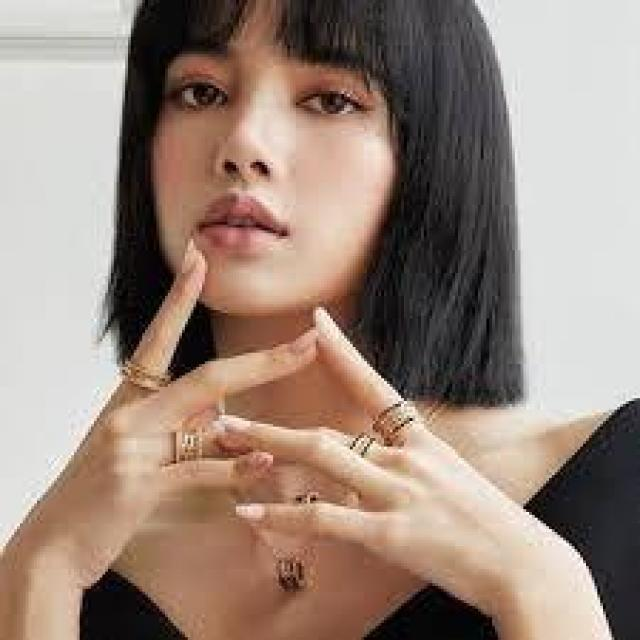person: (20, 0, 626, 637)
